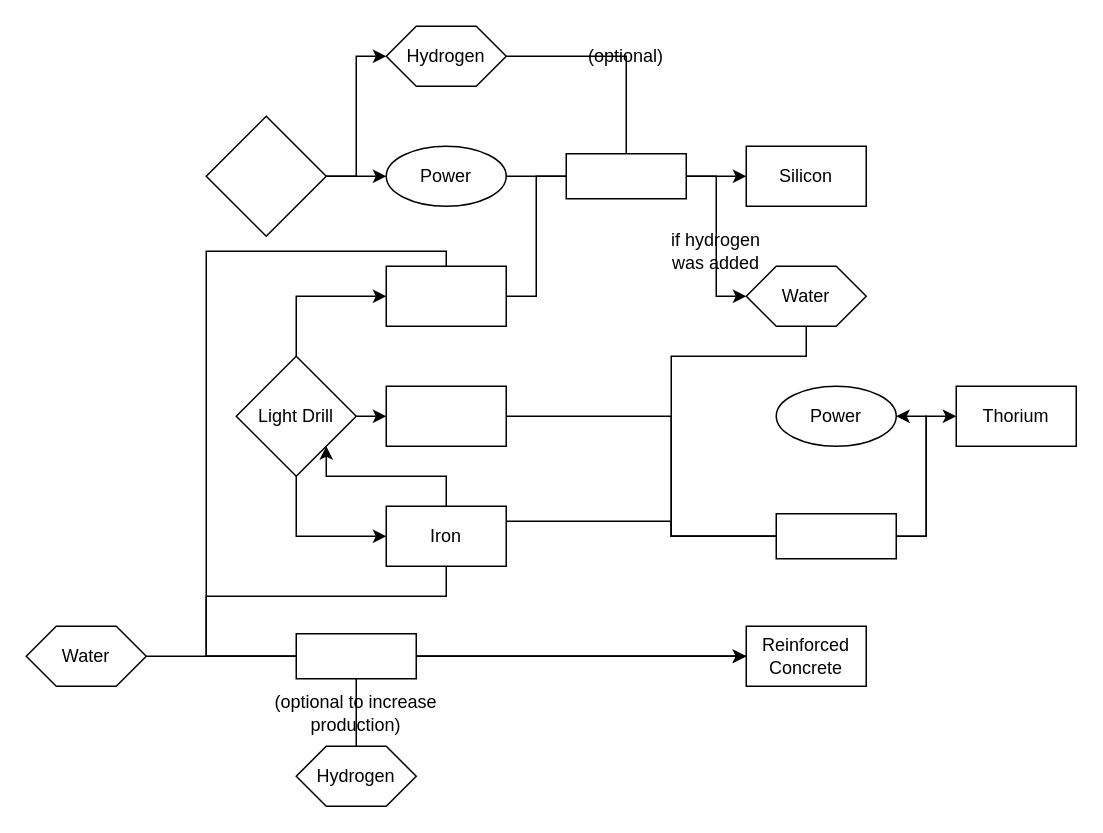
The diagram is 1103 pixels wide and 833 high, and some of its shapes have lost their labels. The shapes that lost their labels are listed below. From the top down, each one's centre as x and y in pixels, then its label:
At point (265, 175): "Vent Energiser".
At point (625, 175): "Sand Cooker".
At point (445, 295): "Sand".
At point (445, 415): "Cobalt".
At point (835, 535): "Fusion Engine".
At point (355, 655): "Concrete Mixer".
